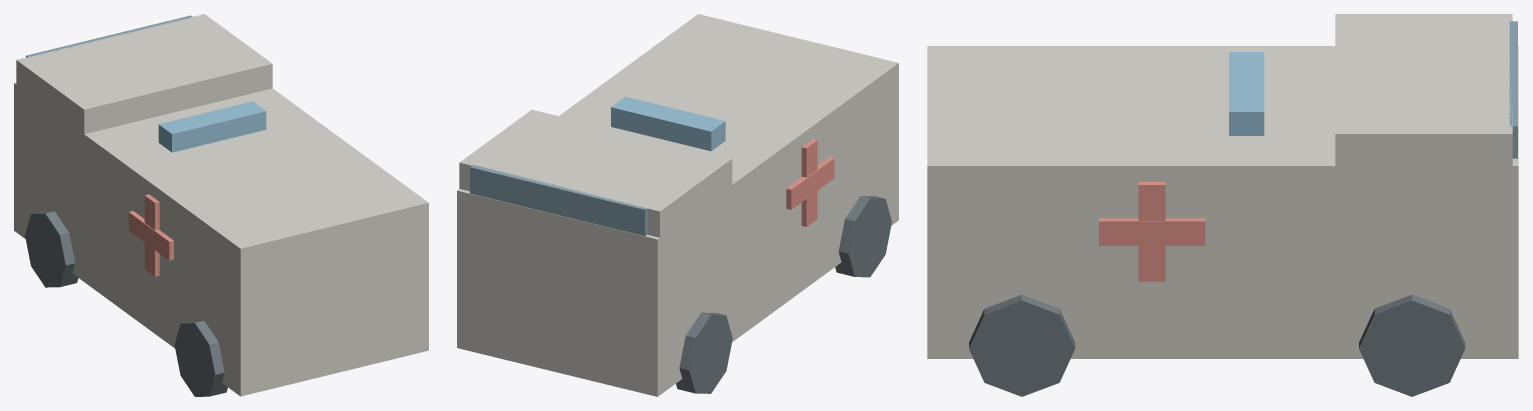
File: ambulance.glb
3 views of the same model, side by side, from view 1: azimuth 30°, elevation 25°; view 2: azimuth 150°, elevation 25°; view 3: azimuth 270°, elevation 25° (orthographic). The views are drawn at different scales.
Visible parts, largest first — view 1: ambulance__vehicle_body, ambulance__cab, ambulance__siren, ambulance__wheel.001, ambulance__wheel, ambulance__cross_h, ambulance__cross_v, ambulance__glass; view 2: ambulance__vehicle_body, ambulance__cab, ambulance__glass, ambulance__siren, ambulance__wheel, ambulance__wheel.001, ambulance__cross_h, ambulance__cross_v; view 3: ambulance__vehicle_body, ambulance__cab, ambulance__wheel.002, ambulance__wheel.003, ambulance__siren, ambulance__cross_h.001, ambulance__cross_v.001, ambulance__glass.
Boxes of the visible parts, x1=… form: ambulance__vehicle_body: x1=14, y1=82, x2=428, y2=396; ambulance__cab: x1=16, y1=14, x2=272, y2=191; ambulance__siren: x1=158, y1=101, x2=266, y2=152; ambulance__wheel.001: x1=25, y1=211, x2=78, y2=287; ambulance__wheel: x1=174, y1=320, x2=227, y2=396; ambulance__cross_h: x1=128, y1=211, x2=173, y2=260; ambulance__cross_v: x1=144, y1=194, x2=159, y2=276; ambulance__glass: x1=26, y1=15, x2=193, y2=57; ambulance__vehicle_body: x1=457, y1=14, x2=898, y2=396; ambulance__cab: x1=459, y1=109, x2=732, y2=298; ambulance__glass: x1=470, y1=165, x2=647, y2=236; ambulance__siren: x1=611, y1=96, x2=725, y2=151; ambulance__wheel: x1=835, y1=196, x2=891, y2=277; ambulance__wheel.001: x1=676, y1=312, x2=732, y2=393; ambulance__cross_h: x1=786, y1=157, x2=834, y2=209; ambulance__cross_v: x1=801, y1=139, x2=817, y2=226; ambulance__vehicle_body: x1=927, y1=46, x2=1518, y2=358; ambulance__cab: x1=1335, y1=14, x2=1512, y2=240; ambulance__wheel.002: x1=969, y1=294, x2=1075, y2=396; ambulance__wheel.003: x1=1359, y1=294, x2=1465, y2=396; ambulance__siren: x1=1229, y1=52, x2=1264, y2=135; ambulance__cross_h.001: x1=1099, y1=218, x2=1205, y2=245; ambulance__cross_v.001: x1=1138, y1=182, x2=1165, y2=281; ambulance__glass: x1=1509, y1=21, x2=1517, y2=158.
Bounding box in the file's own units: 2.64 × 2.4 × 5.
